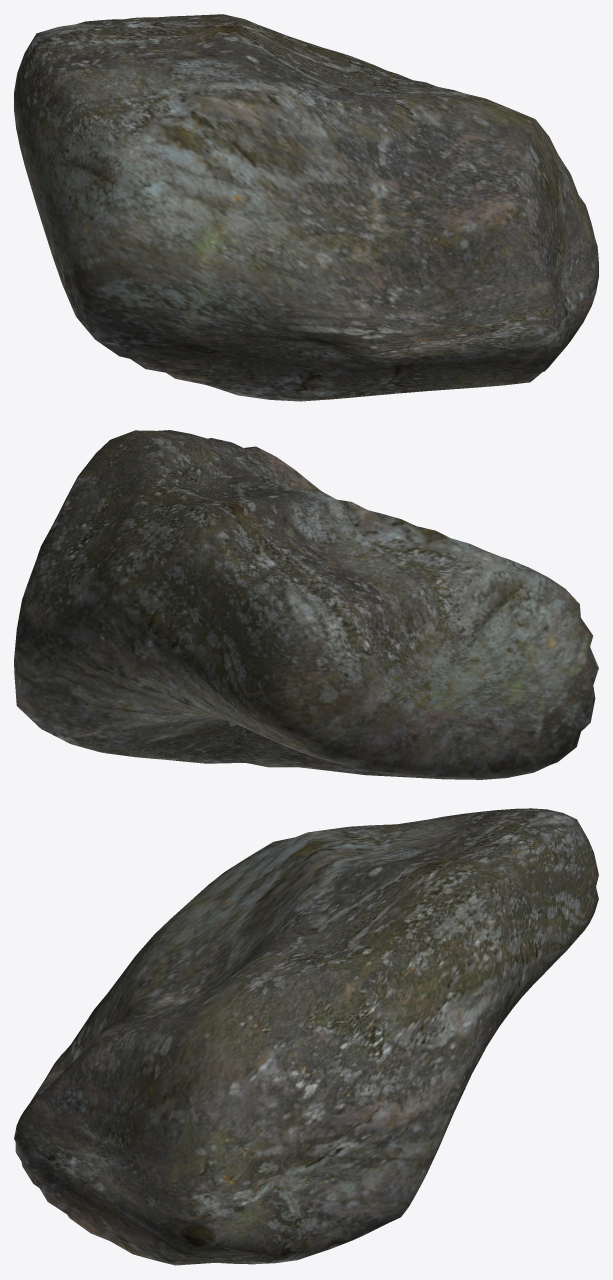
File: M_Rock_2.fbx
3 renders of one model, top to bottom at view 1: azimuth 30°, elevation 25°; view 2: azimuth 150°, elevation 25°; view 3: azimuth 270°, elevation 25°, orthographic. The views are drawn at different scales.
Parts seen in each view (by area): view 1: Cube; view 2: Cube; view 3: Cube.
Part boxes in pixels (<box>): Cube: <box>14,14,598,401</box>; Cube: <box>14,430,598,779</box>; Cube: <box>14,808,598,1265</box>.
Bounding box in the file's own units: 222 × 124 × 215.
1 material, 1 textured.
